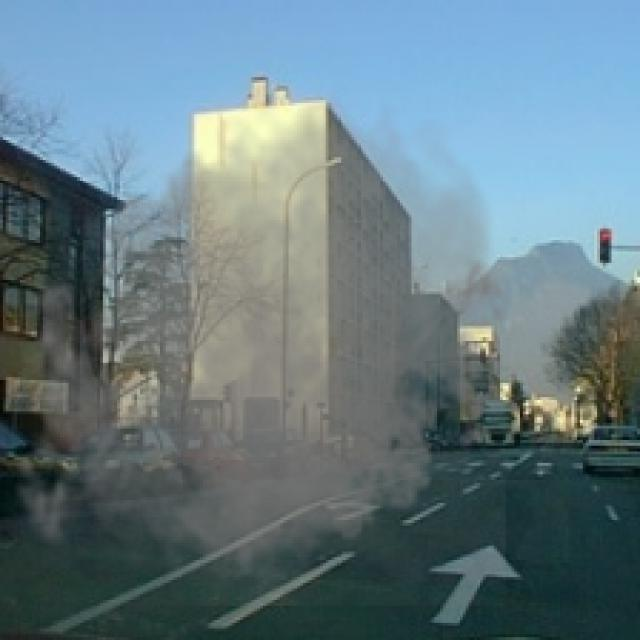smoke: (0, 77, 517, 606)
